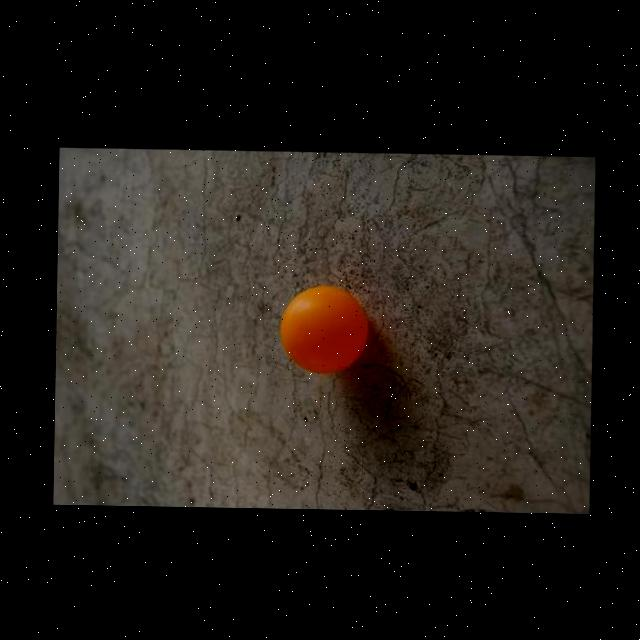ping-pong-ball: (276, 280, 370, 376)
